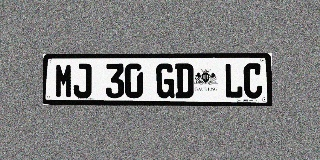0: (125, 63, 143, 98)
3: (106, 63, 124, 98)
C: (243, 63, 262, 98)
D: (175, 63, 194, 98)
G: (156, 63, 174, 98)
J: (73, 64, 91, 98)
L: (224, 63, 243, 98)
M: (55, 64, 73, 98)
